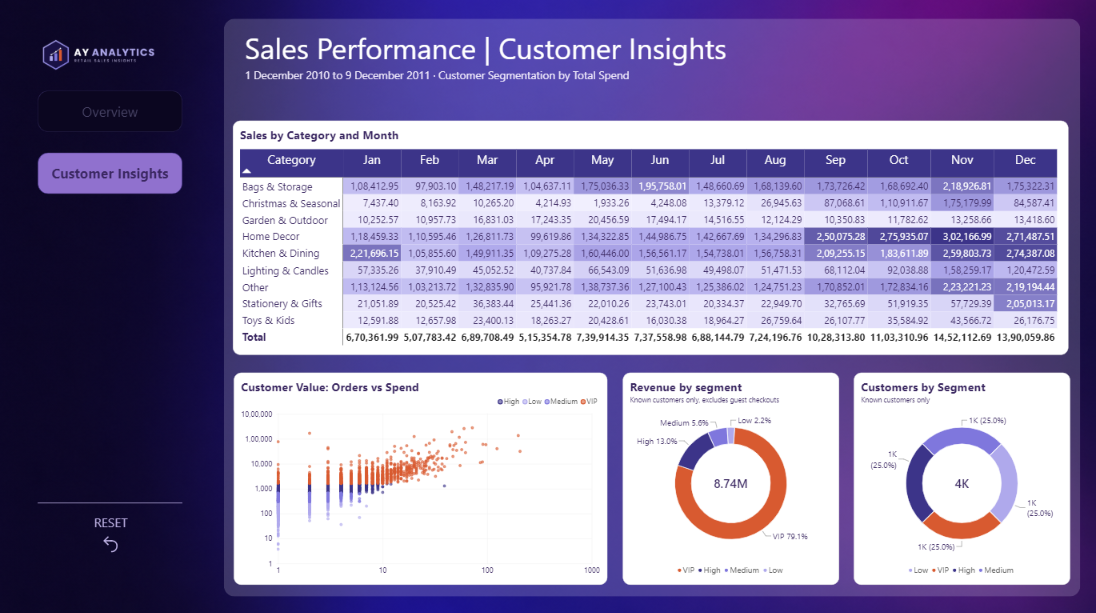

Layout of this report page (visuals, bound fields, positions):
{"tool":"powerbi","page":{"name":"Customer Insights","canvas":[2560,1440],"ordinal":1},"visuals":[{"type":"pageNavigator","box":[96,216,336,96],"z":0},{"type":"pageNavigator","box":[96,360,336,96],"z":1000},{"type":"shape","title":"svsvsv","box":[528,48,1992,1344],"z":2000},{"type":"actionButton","box":[120,1224,288,96],"z":3000},{"type":"textbox","title":"RESET","box":[120,1200,288,48],"z":4000},{"type":"shape","box":[96,1152,336,48],"z":5000},{"type":"textbox","title":"Sales Performance | Customer Insights","box":[576,72,1152,144],"z":7000},{"type":"scatterChart","title":"Customer Value: Orders vs Spend","fields":{"Category":["customers.CustomerID"],"Series":["customers.SpendSegment"],"X":["Sum(customers.Orders)"],"Y":["Sum(customers.TotalSpend)"]},"box":[552.2,871.2,868.7,493.3],"z":8000},{"type":"pivotTable","title":"Sales by Category and Month","fields":{"Columns":["DimDate.Month"],"Rows":["sales_clean.Category"],"Values":["_Measures.Total Sales"]},"box":[549.7,287.1,1943.6,544.8],"z":9000},{"type":"donutChart","title":"Revenue by segment","fields":{"Category":["customers.SpendSegment"],"Y":["DimDate.Segment Revenue"]},"box":[1455.2,871.2,503.1,493.3],"z":10000},{"type":"donutChart","title":"Customers by Segment","fields":{"Category":["customers.SpendSegment"],"Y":["DimDate.Segment Customers"]},"box":[1992.6,871.2,503.1,493.3],"z":11000},{"type":"image","box":[96,48,336,168],"z":12000}]}

Visuals, with their boxes on the page's 2560x1440 design canvas (x1, y1, x2, y2). These are canvas units, not pixel positions in the 1096x613 screenshot, which may show the page scaled, cropped or inside an application window:
pageNavigator: x1=96 y1=216 x2=432 y2=312
pageNavigator: x1=96 y1=360 x2=432 y2=456
"svsvsv" shape: x1=528 y1=48 x2=2520 y2=1392
actionButton: x1=120 y1=1224 x2=408 y2=1320
"RESET" textbox: x1=120 y1=1200 x2=408 y2=1248
shape: x1=96 y1=1152 x2=432 y2=1200
"Sales Performance | Customer Insights" textbox: x1=576 y1=72 x2=1728 y2=216
"Customer Value: Orders vs Spend" scatterChart: x1=552 y1=871 x2=1421 y2=1364
"Sales by Category and Month" pivotTable: x1=550 y1=287 x2=2493 y2=832
"Revenue by segment" donutChart: x1=1455 y1=871 x2=1958 y2=1364
"Customers by Segment" donutChart: x1=1993 y1=871 x2=2496 y2=1364
image: x1=96 y1=48 x2=432 y2=216
